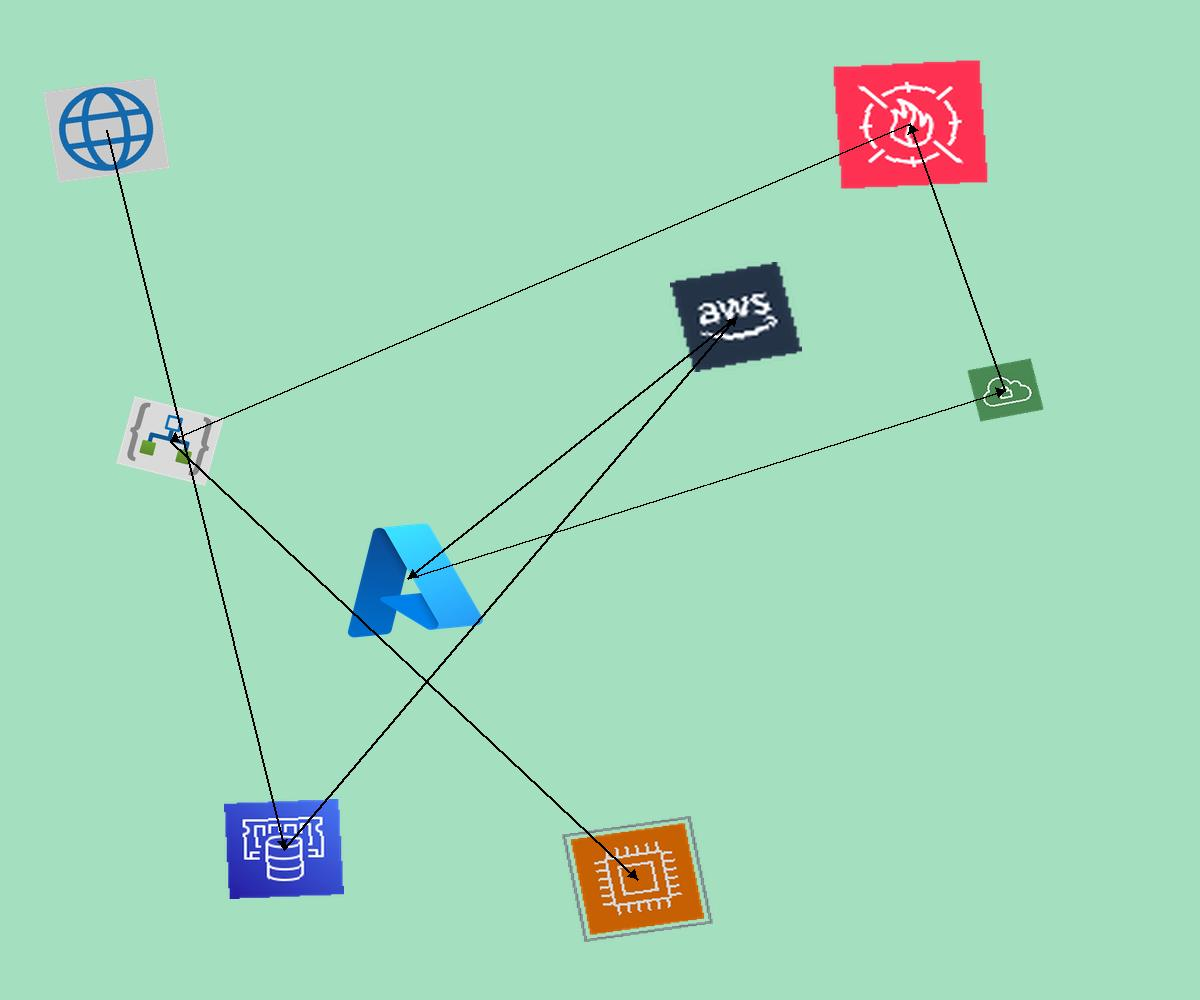AWS-Category_Compute: (561, 815, 714, 943)
AWS-Cloud-logo: (670, 262, 802, 372)
AWS-ElastiCache: (224, 799, 344, 899)
AWS-Private_vpc: (967, 358, 1044, 422)
AWS-WAF: (832, 59, 989, 190)
Azure_http: (43, 77, 170, 183)
Azure_integration-204-Logic-Apps: (116, 396, 224, 486)
Azure_services: (326, 510, 491, 647)
